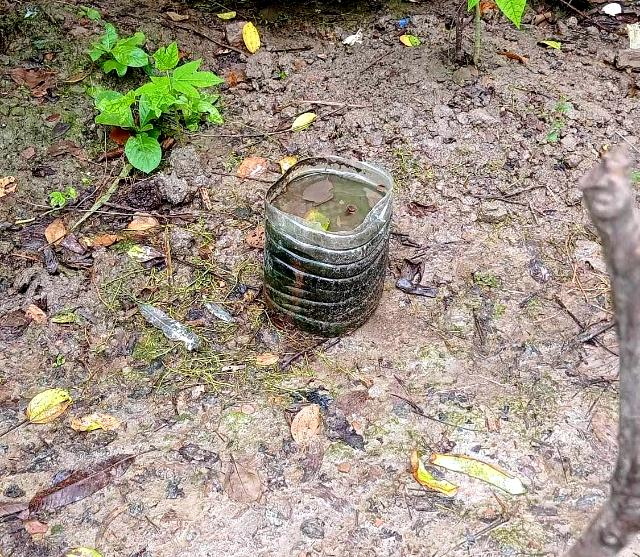bottle: (259, 151, 403, 337)
